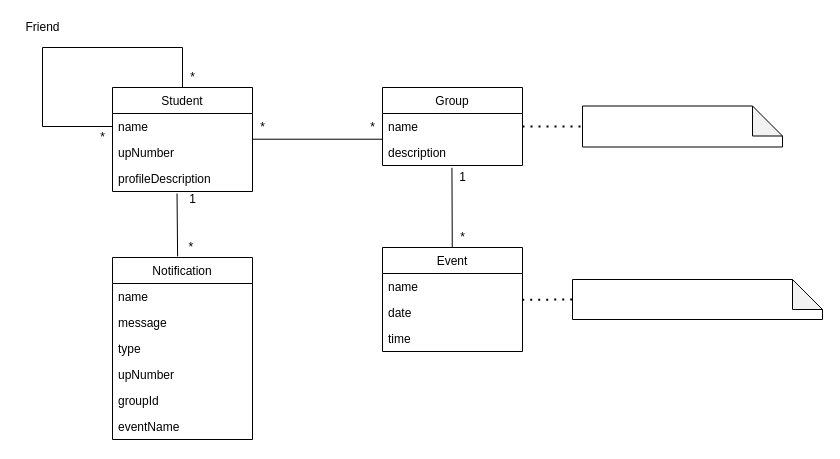
Some shapes in this 840 by 459 pixel diagram are drawn without their labels. The shapes that lost their labels are listed below. From the top down, each one's centre as x and y in pixels, then its label:
At [682,126]: "{name = NOT NULL}".
At [697,299]: "{23:59:59 >= time >= 00:00:00 name = NOT NULL }".
